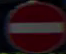No entry: (3, 3, 62, 45)
